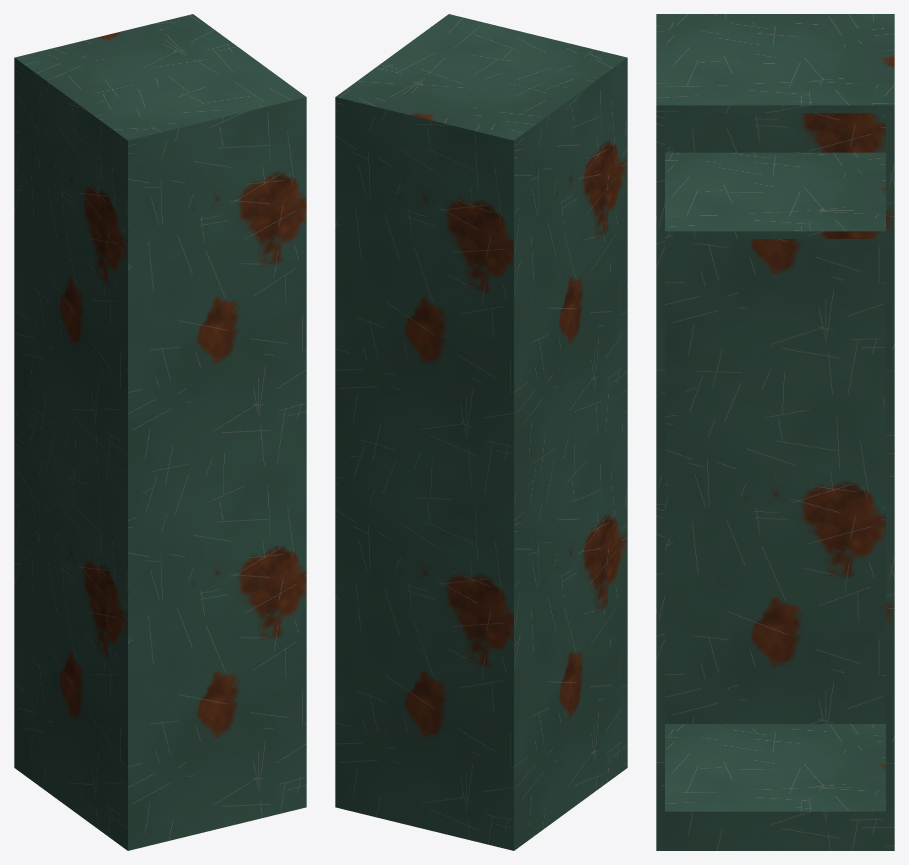
The model's file is SM_Locker.fbx.
3 views of the same model, side by side, from view 1: azimuth 30°, elevation 25°; view 2: azimuth 150°, elevation 25°; view 3: azimuth 270°, elevation 25° (orthographic). The views are drawn at different scales.
Visible parts, largest first — view 1: SM_Locker; view 2: SM_Locker; view 3: SM_Locker.
Part boxes in pixels (box(x1,y1,x2,y2)): SM_Locker: box(14, 14, 306, 850); SM_Locker: box(335, 14, 627, 850); SM_Locker: box(656, 14, 894, 850).
Size of what is drawn, in the model's own units: 0.5 by 1.9 by 0.55.
Materials: 1 (1 with a texture image).
